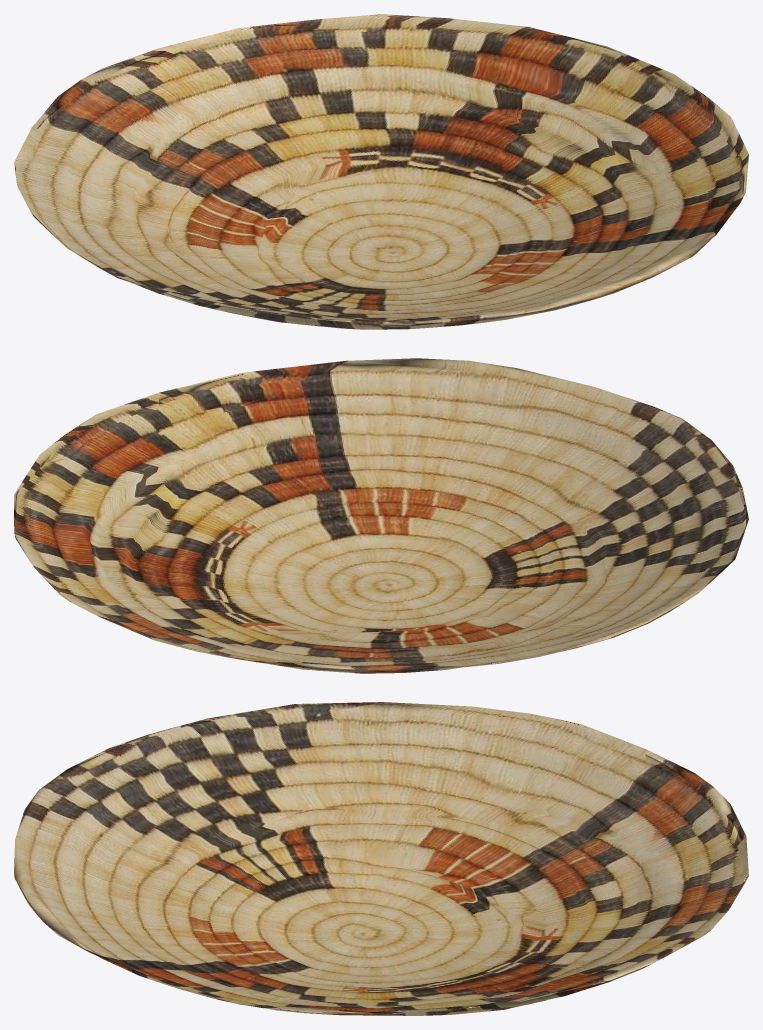
File: Tribal Checkered Fan Motif.fbx
3 renders of one model, top to bottom at view 1: azimuth 30°, elevation 25°; view 2: azimuth 150°, elevation 25°; view 3: azimuth 270°, elevation 25°, orthographic.
Parts seen in each view (by area): view 1: Tribal Checkered Fan Motif; view 2: Tribal Checkered Fan Motif; view 3: Tribal Checkered Fan Motif.
Part boxes in pixels (<box>): Tribal Checkered Fan Motif: <box>14,14,748,329</box>; Tribal Checkered Fan Motif: <box>14,358,748,673</box>; Tribal Checkered Fan Motif: <box>14,702,748,1015</box>.
Size of the model in its own units: 37.72 by 4.85 by 37.6.
1 material, 1 textured.
